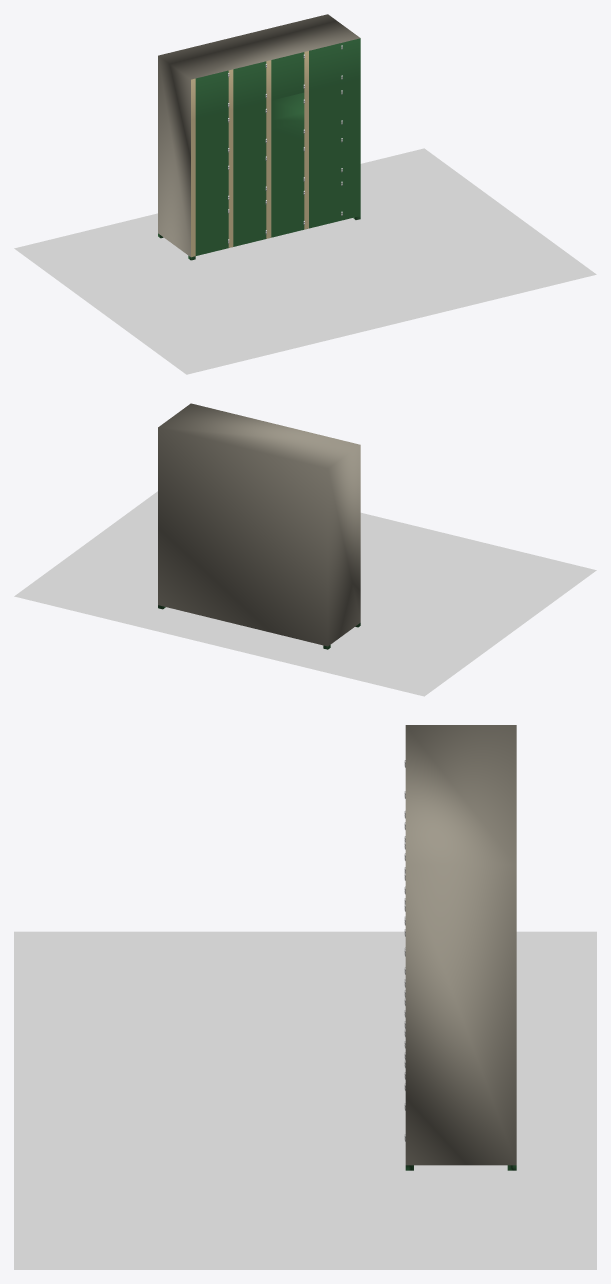
Rendered from locker.glb.
3 views of the same model, one above another, from view 1: azimuth 30°, elevation 25°; view 2: azimuth 150°, elevation 25°; view 3: azimuth 270°, elevation 25° (orthographic). The views are drawn at different scales.
Parts seen in each view (by area): view 1: Piso, Armários, Laterais e Traseira, Armário Central; view 2: Piso, Laterais e Traseira; view 3: Piso, Laterais e Traseira.
Boxes of the visible parts, bbox=[...] form: Piso: bbox=[14, 148, 596, 374]; Armários: bbox=[191, 38, 360, 257]; Laterais e Traseira: bbox=[158, 14, 360, 256]; Armário Central: bbox=[271, 92, 304, 148]; Piso: bbox=[14, 491, 596, 696]; Laterais e Traseira: bbox=[158, 403, 360, 646]; Piso: bbox=[14, 931, 596, 1269]; Laterais e Traseira: bbox=[405, 725, 516, 1165].
Bounding box in the file's own units: 24.38 × 10.27 × 17.76.
